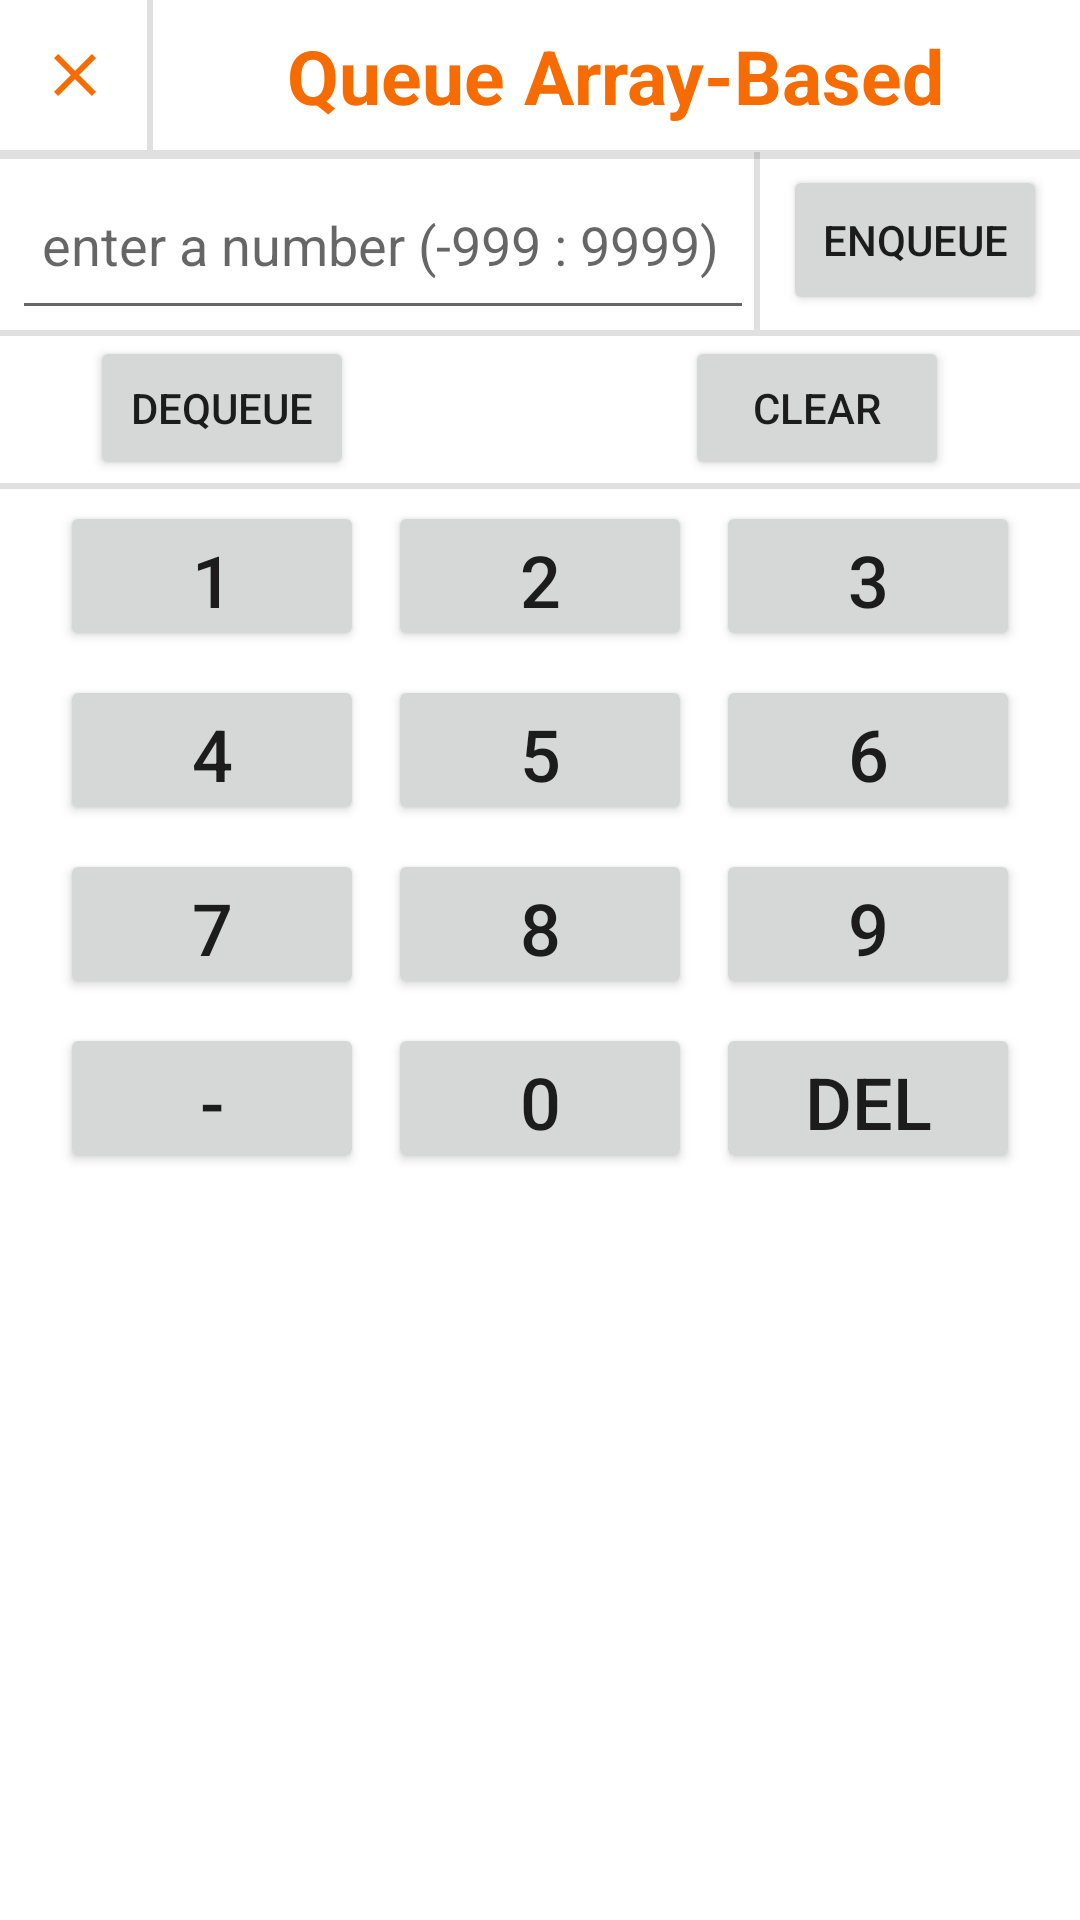

Icon click points for this 1080w x 1920h phone screenshot, format (x=x, y=y):
Close: (x=73, y=75)
